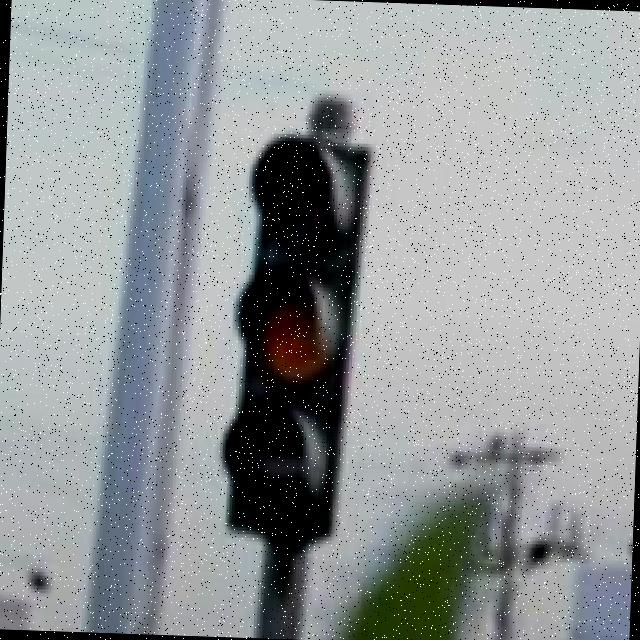Zolte swiatlo: (226, 136, 372, 542)
